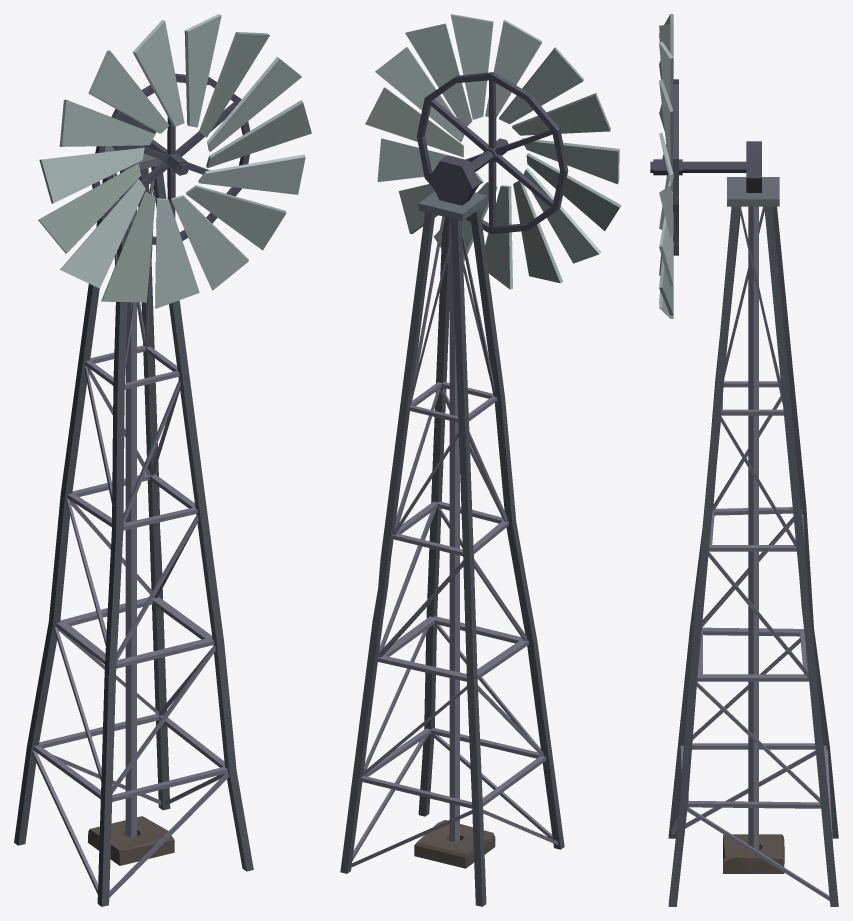
File: Windmill.fbx
3 renders of one model, left to right at view 1: azimuth 30°, elevation 25°; view 2: azimuth 150°, elevation 25°; view 3: azimuth 270°, elevation 25°, orthographic. The views are drawn at different scales.
Visible parts, largest first — view 1: Windmill; view 2: Windmill; view 3: Windmill.
Boxes of the visible parts, x1,y1,x2,y2 form: Windmill: [14, 14, 311, 906]; Windmill: [340, 14, 621, 906]; Windmill: [650, 14, 838, 906].
Bounding box in the file's own units: 377 × 1148 × 233.
